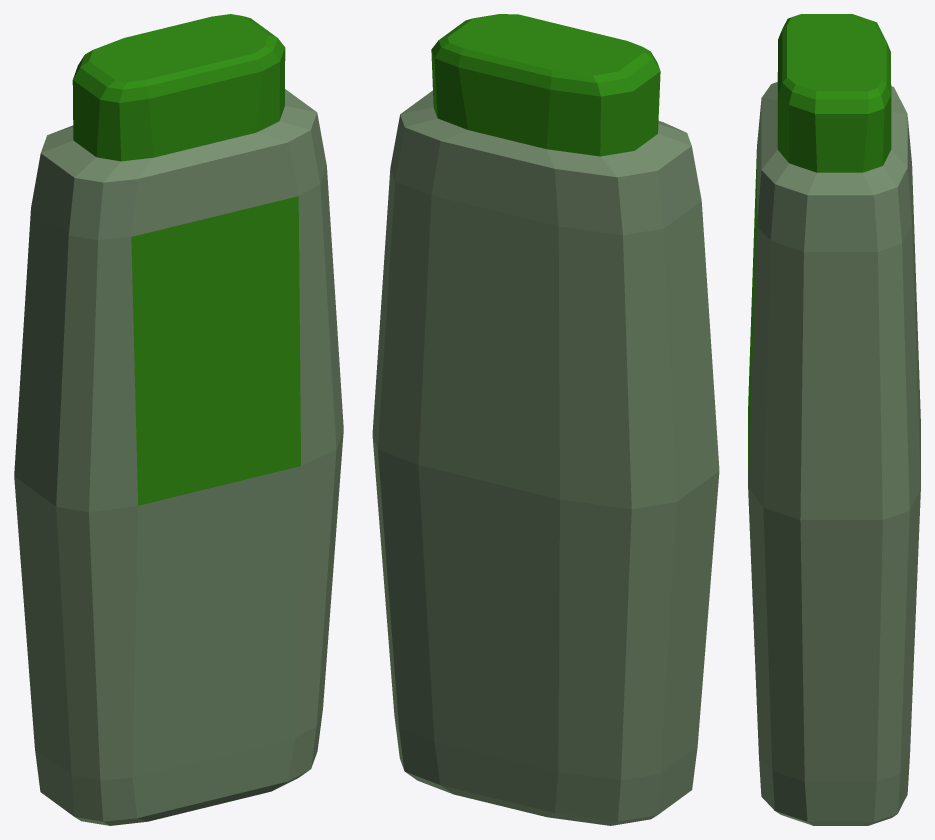
Rendered from Ma_Shampoo_4.fbx.
The picture shows the model from 3 angles, left to right: view 1: azimuth 30°, elevation 25°; view 2: azimuth 150°, elevation 25°; view 3: azimuth 270°, elevation 25°; orthographic projection. The views are drawn at different scales.
Visible parts, largest first — view 1: Ma_Shampoo_4; view 2: Ma_Shampoo_4; view 3: Ma_Shampoo_4.
Boxes of the visible parts, x1,y1,x2,y2 form: Ma_Shampoo_4: (14,14,343,825); Ma_Shampoo_4: (372,14,719,825); Ma_Shampoo_4: (748,14,920,825).
Bounding box in the file's own units: 86.61 × 44.83 × 206.
